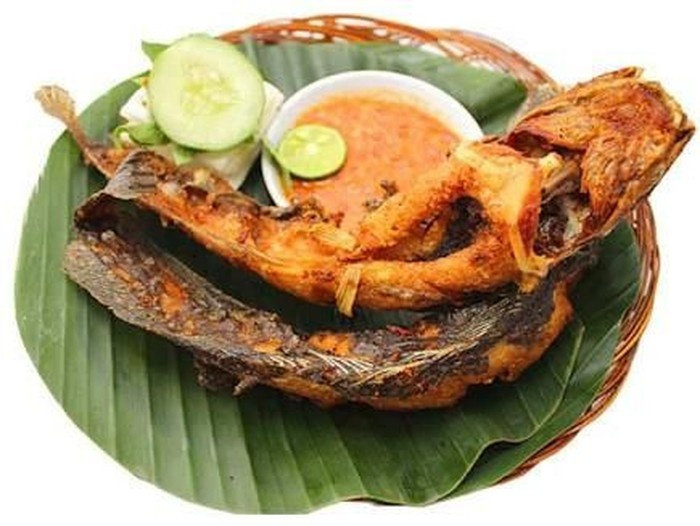pecel_lele: (40, 80, 698, 293), (11, 232, 624, 422)
